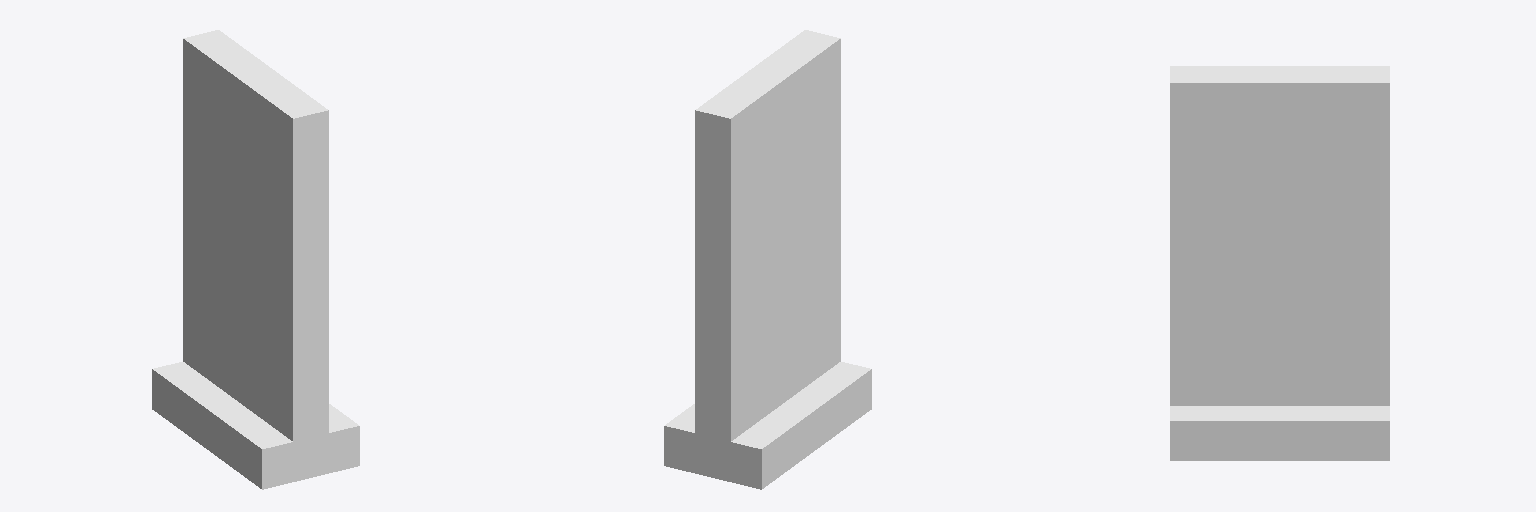
Rendered from Exhibition.obj.
3 views of the same model, side by side, from view 1: azimuth 30°, elevation 25°; view 2: azimuth 150°, elevation 25°; view 3: azimuth 270°, elevation 25° (orthographic).
Visible parts, largest first — view 1: ????; view 2: ????; view 3: ????.
Boxes of the visible parts, box(x1,y1,x2,y2) form: ????: box(152, 30, 359, 489); ????: box(664, 30, 871, 489); ????: box(1170, 66, 1389, 460).
Size of the model in its own units: 0.7636 by 2.72 by 1.49.